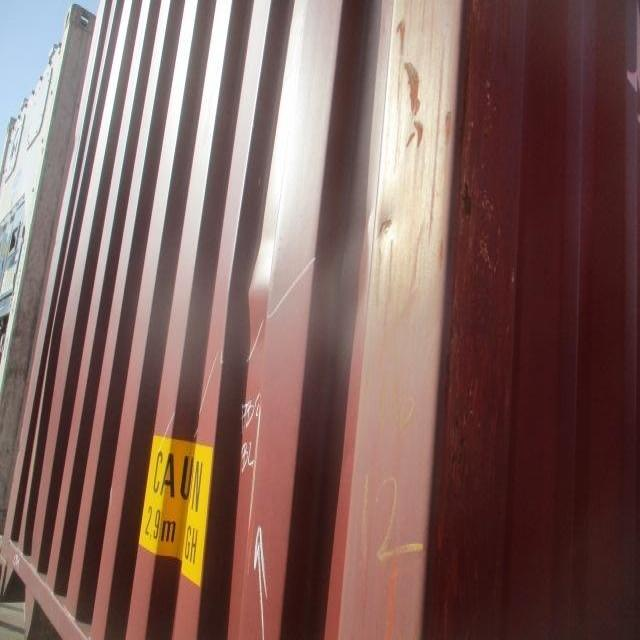dent: (223, 216, 282, 364)
